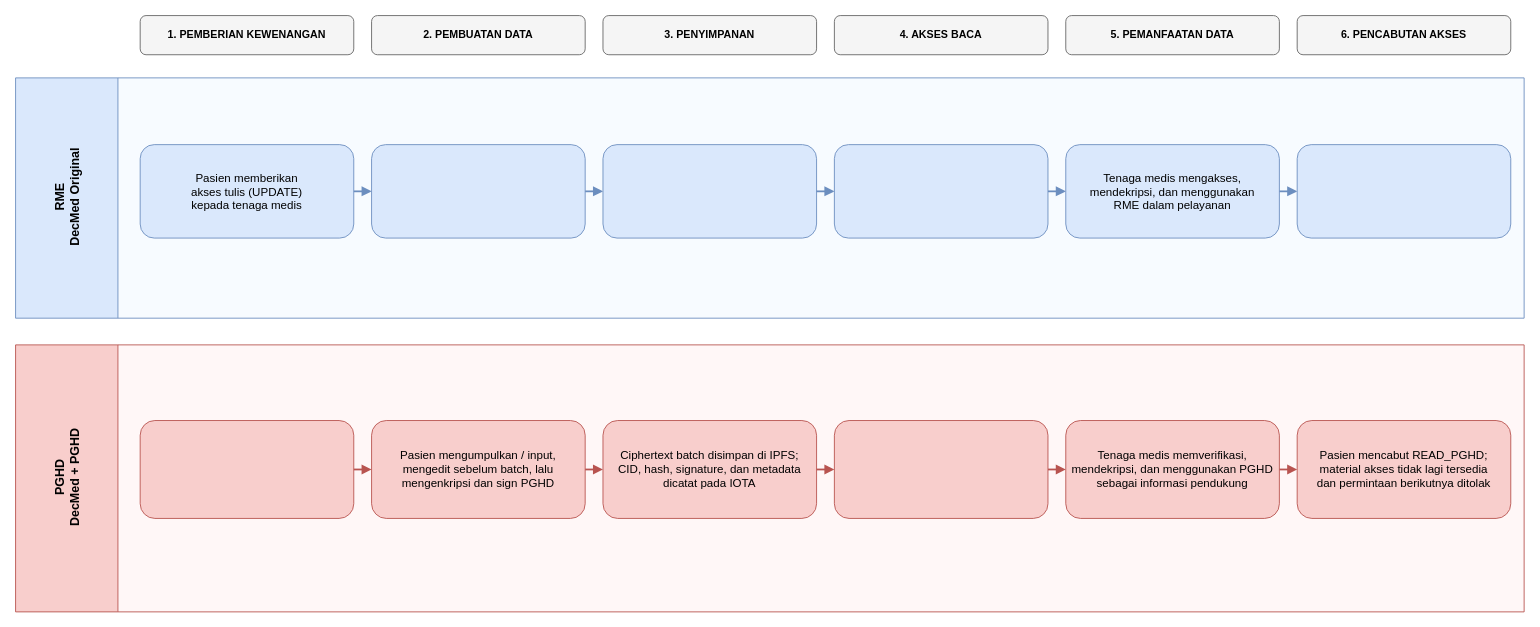
Some shapes in this 1540 by 627 pixel diagram are drawn without their labels. Each missing label, with the centre of its shape:
"Ciphertext disimpan di IPFS; CID dan metadata dicatat pada IOTA" belongs at point (709, 191).
"Pasien memberikan akses baca (READ) kepada tenaga medis" belongs at point (940, 191).
"Pasien memberikan akses READ_PGHD kepada tenaga medis" belongs at point (940, 469).
"Pasien mencabut akses; permintaan berikutnya ditolak oleh sistem" belongs at point (1403, 191).
"Tenaga medis membuat dan mengenkripsi rekam medis pasien" belongs at point (478, 191).
"Tidak memerlukan akses tulis: pasien adalah pembuat dan pemilik sumber PGHD" belongs at point (246, 469).
